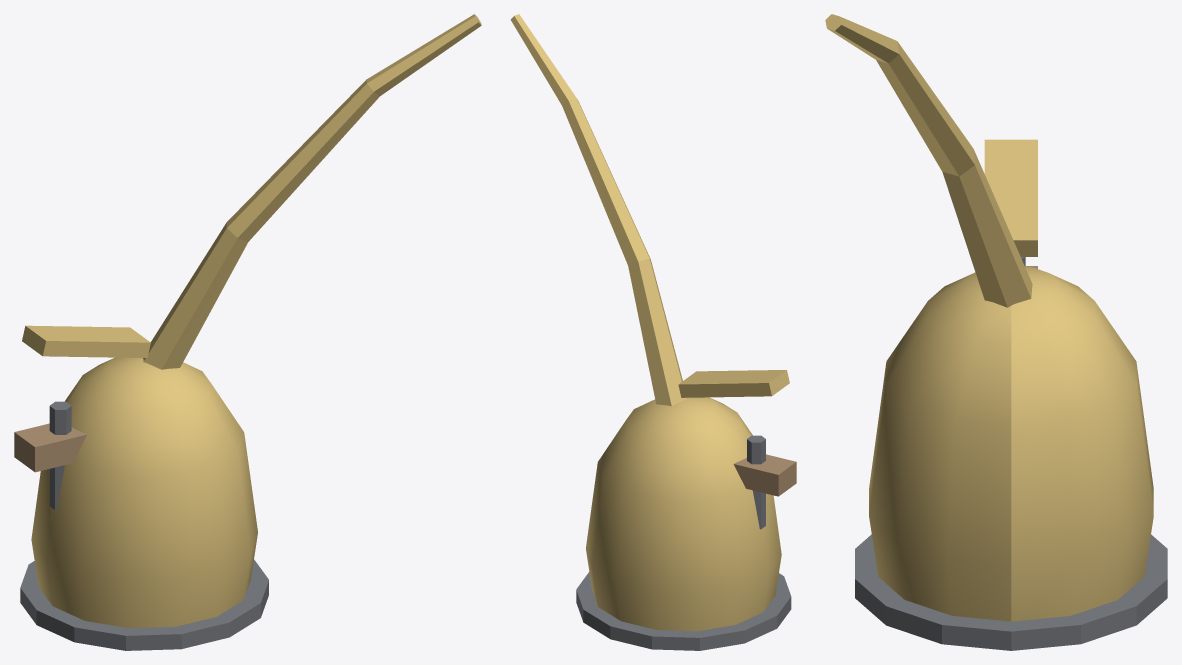
Rendered from steampunk-airship-dock-and-workshop-oil-can-00ade082__36086.glb.
3 renders of one model, left to right at view 1: azimuth 30°, elevation 25°; view 2: azimuth 150°, elevation 25°; view 3: azimuth 270°, elevation 25°, orthographic. The views are drawn at different scales.
Parts seen in each view (by area): view 1: oil-can; view 2: oil-can; view 3: oil-can.
Boxes of the visible parts, x1,y1,x2,y2 form: oil-can: (14,14,481,650); oil-can: (510,14,796,650); oil-can: (825,14,1167,650).
Size of the model in its own units: 0.3231 by 0.4538 by 0.1922.
